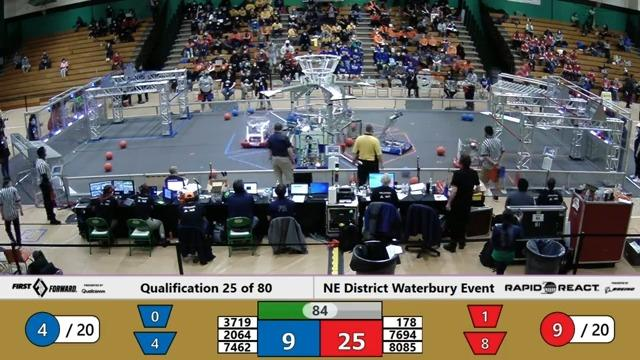robot: (449, 130, 506, 182), (285, 122, 332, 175), (371, 108, 416, 158), (235, 112, 276, 151)
